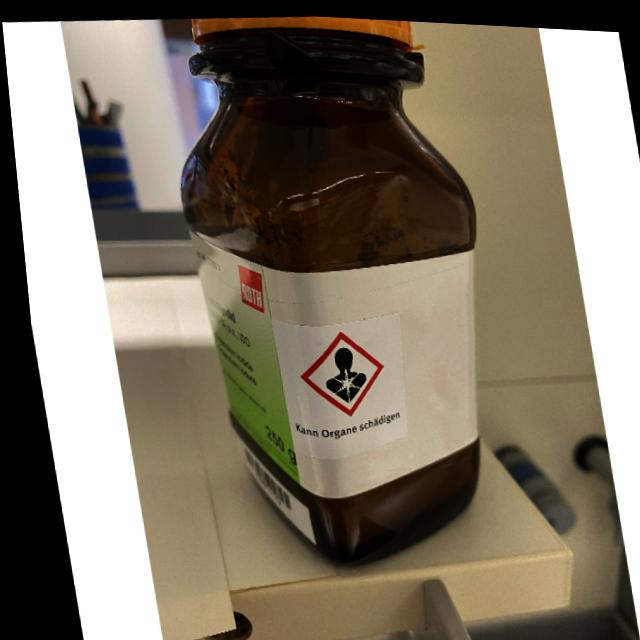serious health hazard: (284, 323, 384, 418)
